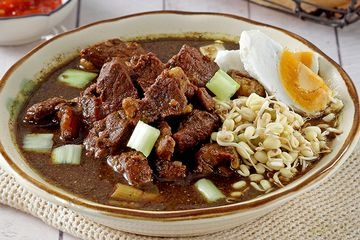rawon: (3, 16, 342, 211)
